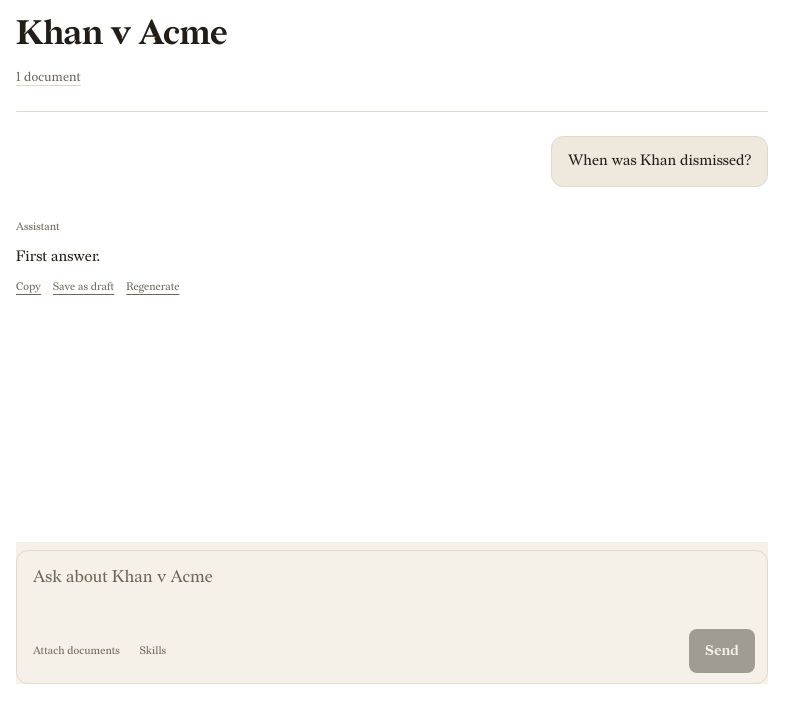
Test: AssistantTab — Regenerate › hides Regenerate while a turn is in flight
The image size is (785, 701).
Expected: the button with test id "message-regenerate" is shown, [126, 279, 179, 296]
In the text box with test id "chat-composer-input": (392, 586) [17, 551, 767, 621], type "Another question"
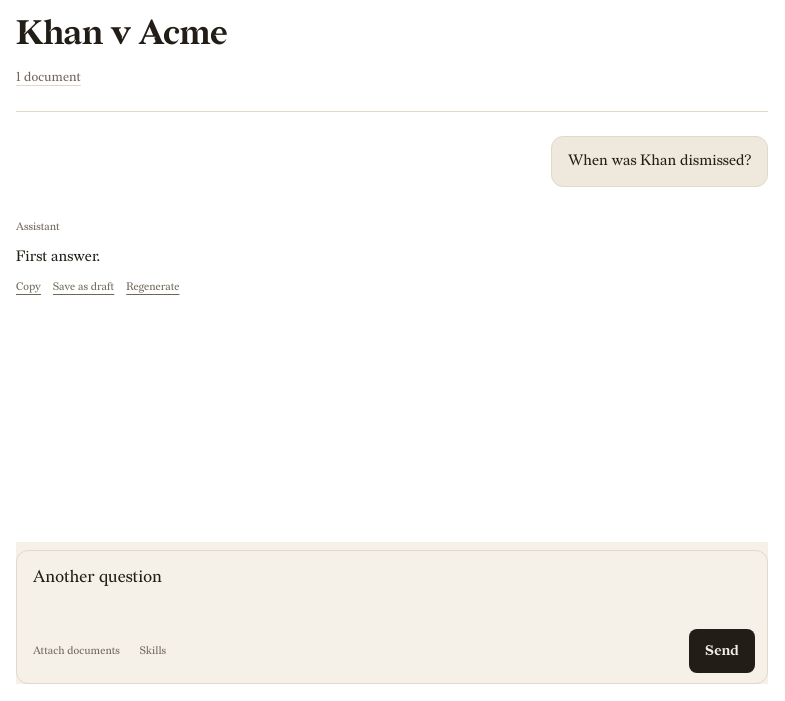
Click the button "Send": (722, 651) [689, 629, 755, 673]
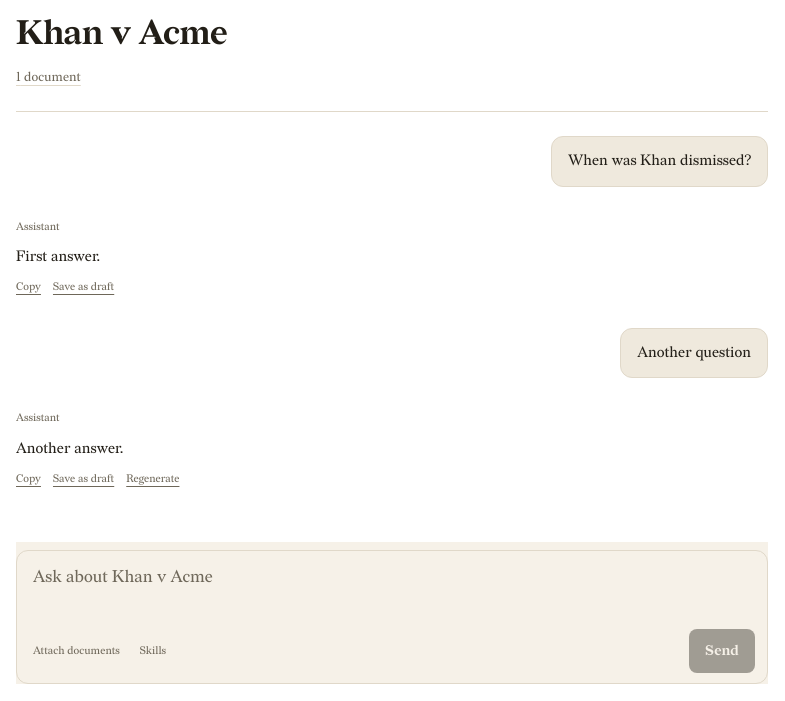
Expected: the number of buttons with test id "message-regenerate" is 1, [126, 471, 179, 488]
Expected: the text "Another answer." is shown, [16, 439, 123, 458]
